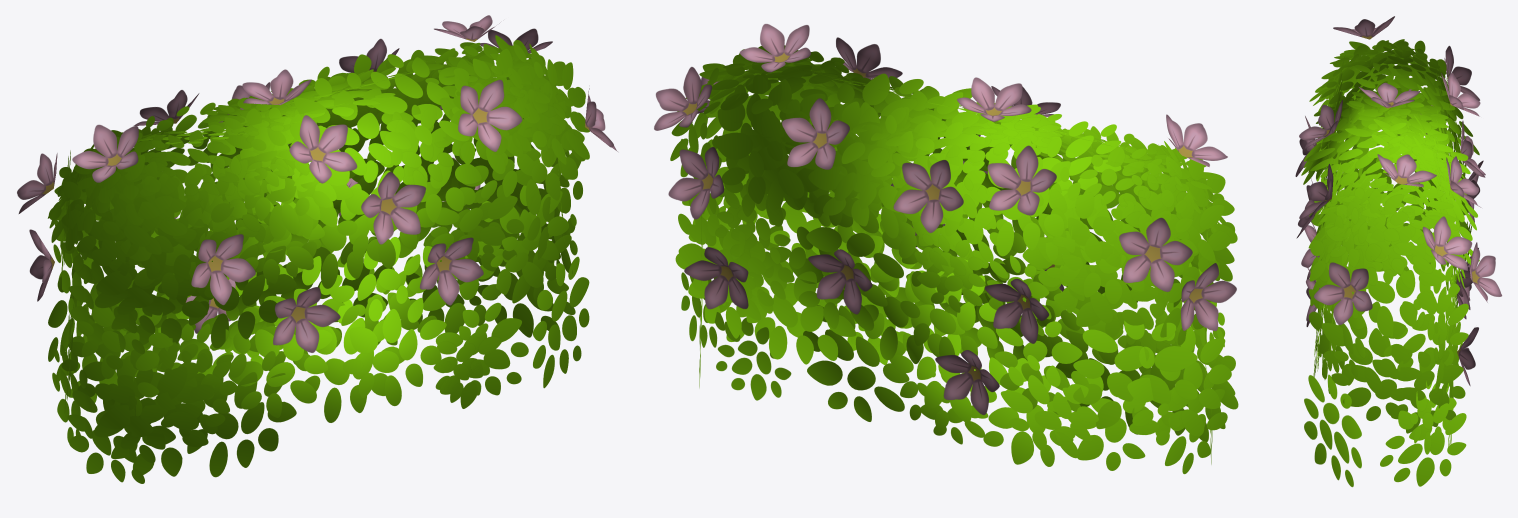
The model's file is Bush_Large_Flowers.glb.
3 renders of one model, left to right at view 1: azimuth 30°, elevation 25°; view 2: azimuth 150°, elevation 25°; view 3: azimuth 270°, elevation 25°, orthographic. The views are drawn at different scales.
Visible parts, largest first — view 1: Bush_Large_Flowers; view 2: Bush_Large_Flowers; view 3: Bush_Large_Flowers.
Part boxes in pixels (left/top/right/bottom): Bush_Large_Flowers: left=17, top=15, right=617, bottom=483; Bush_Large_Flowers: left=654, top=24, right=1238, bottom=474; Bush_Large_Flowers: left=1295, top=16, right=1501, bottom=487.
Bounding box in the file's own units: 1.93 × 1.26 × 0.7617.
2 materials, 2 textured.
